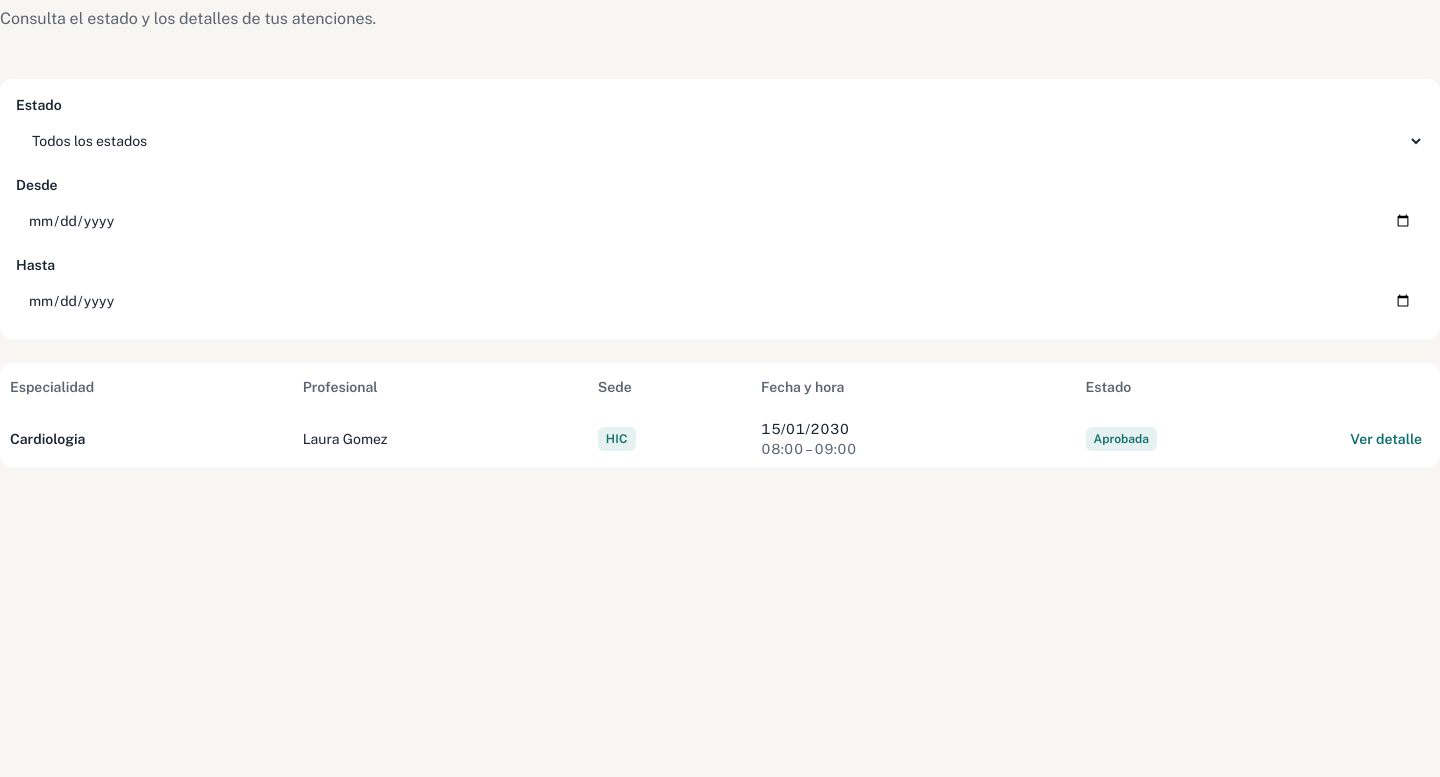
Test: MyAppointmentsPage — reprogramación (HU-018) › CA-04 una solicitud pendiente en el servidor se informa con su mensaje
Click the button with aria-label "Ver detalle de Cardiologia" at (1386,439), box [1342,419,1430,459]
(page scrolled)
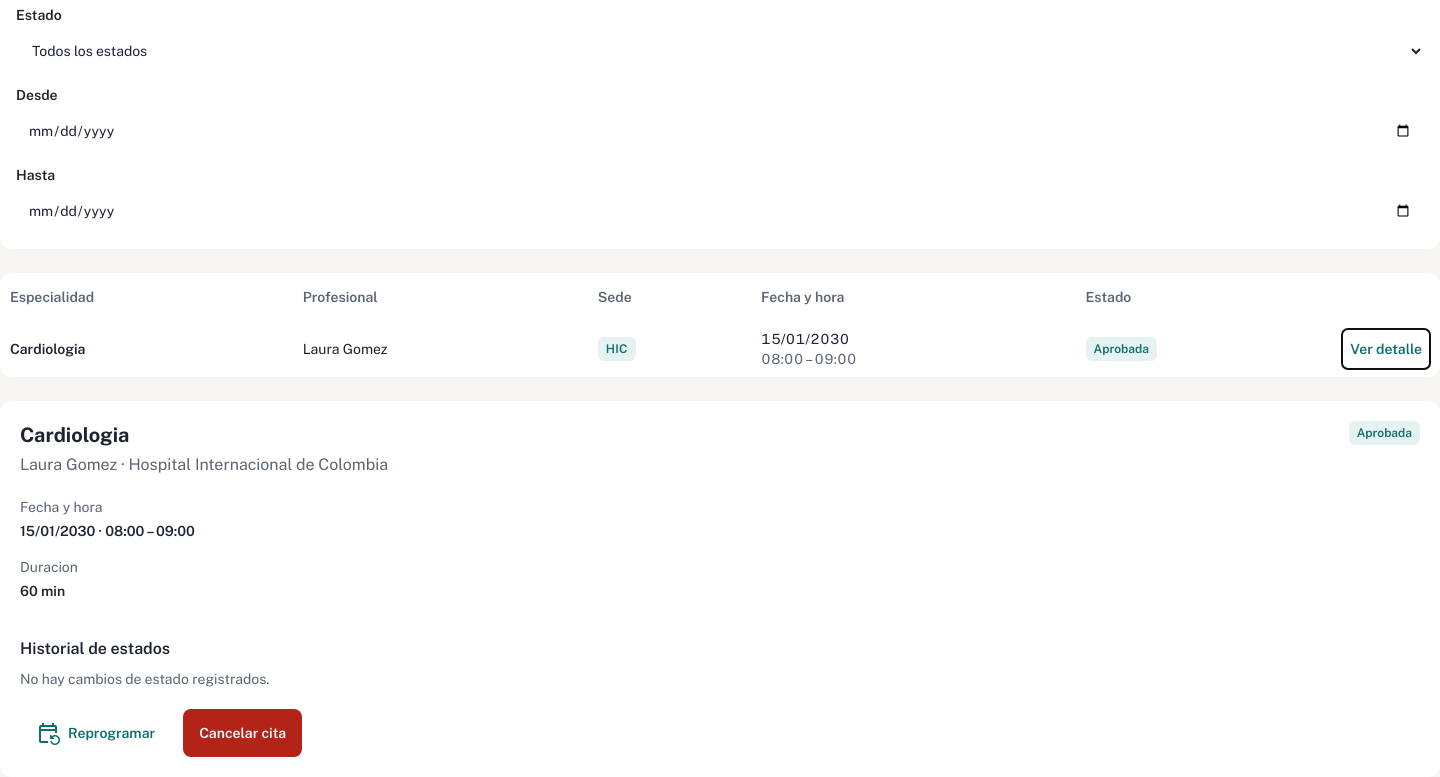
Click the button "Reprogramar" at (96,733), box [20,709,171,757]
(page scrolled)
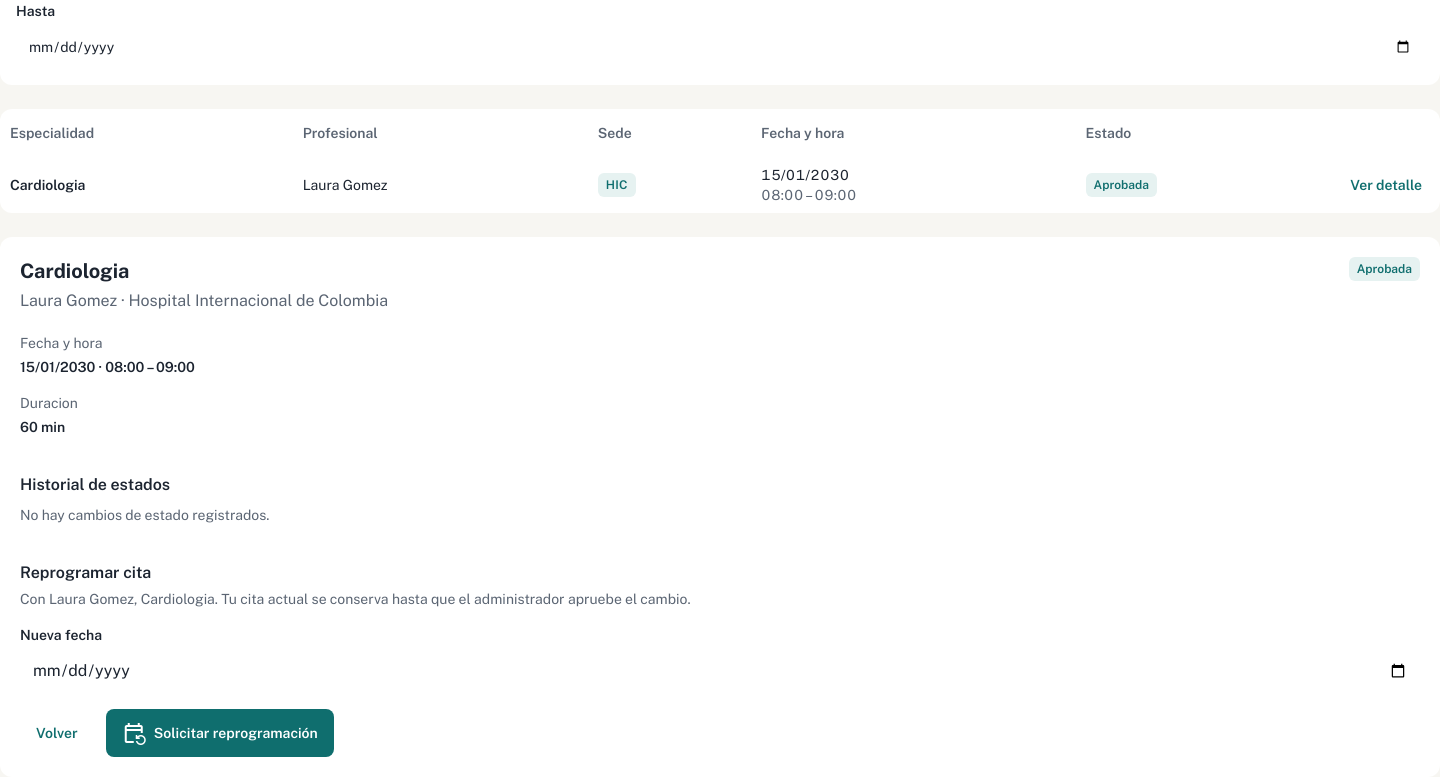
Type "2030-01-16" into the date field labelled "Nueva fecha" at (720,671), box [20,649,1420,693]
(page scrolled)
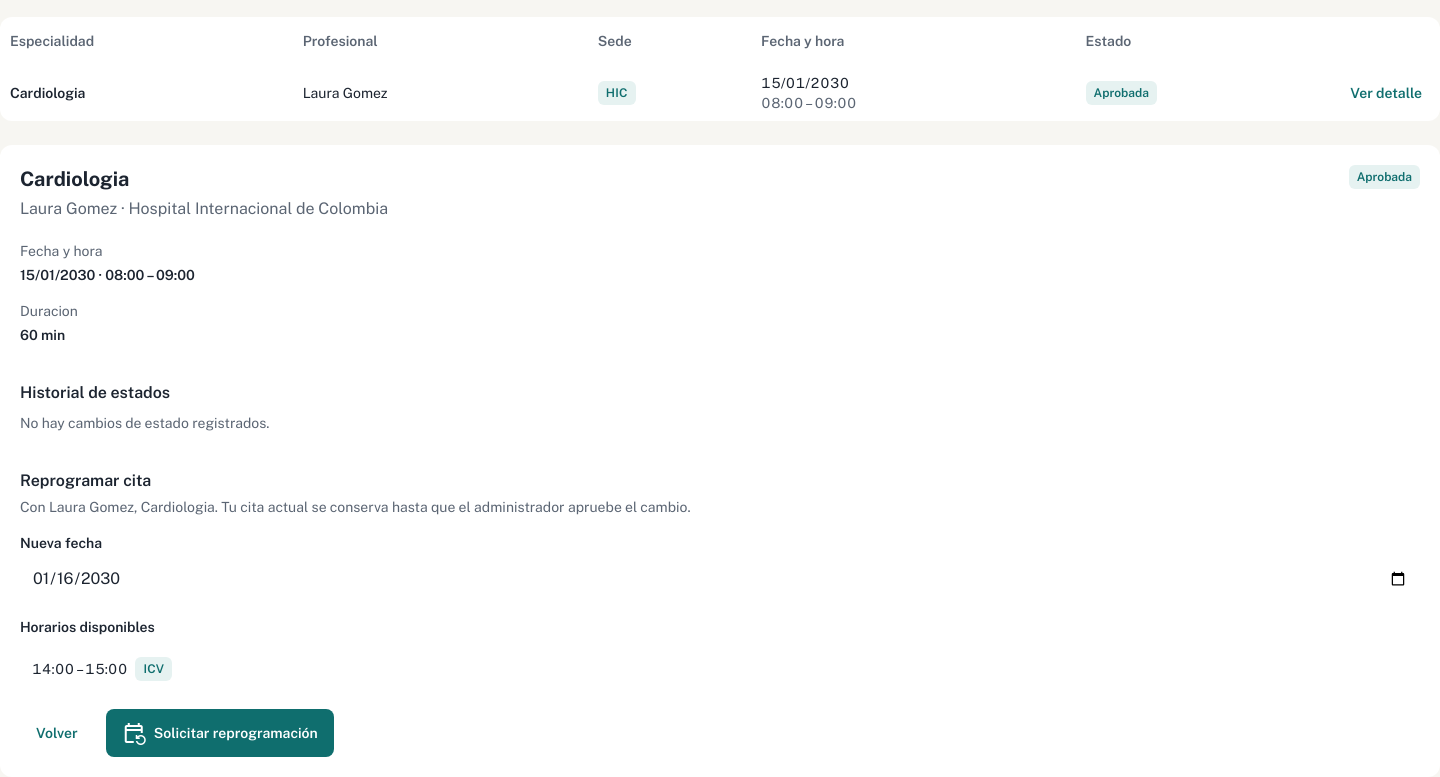
Click the radio button labelled "14:00 – 15:00 ICV" at (102,669), box [20,645,184,693]
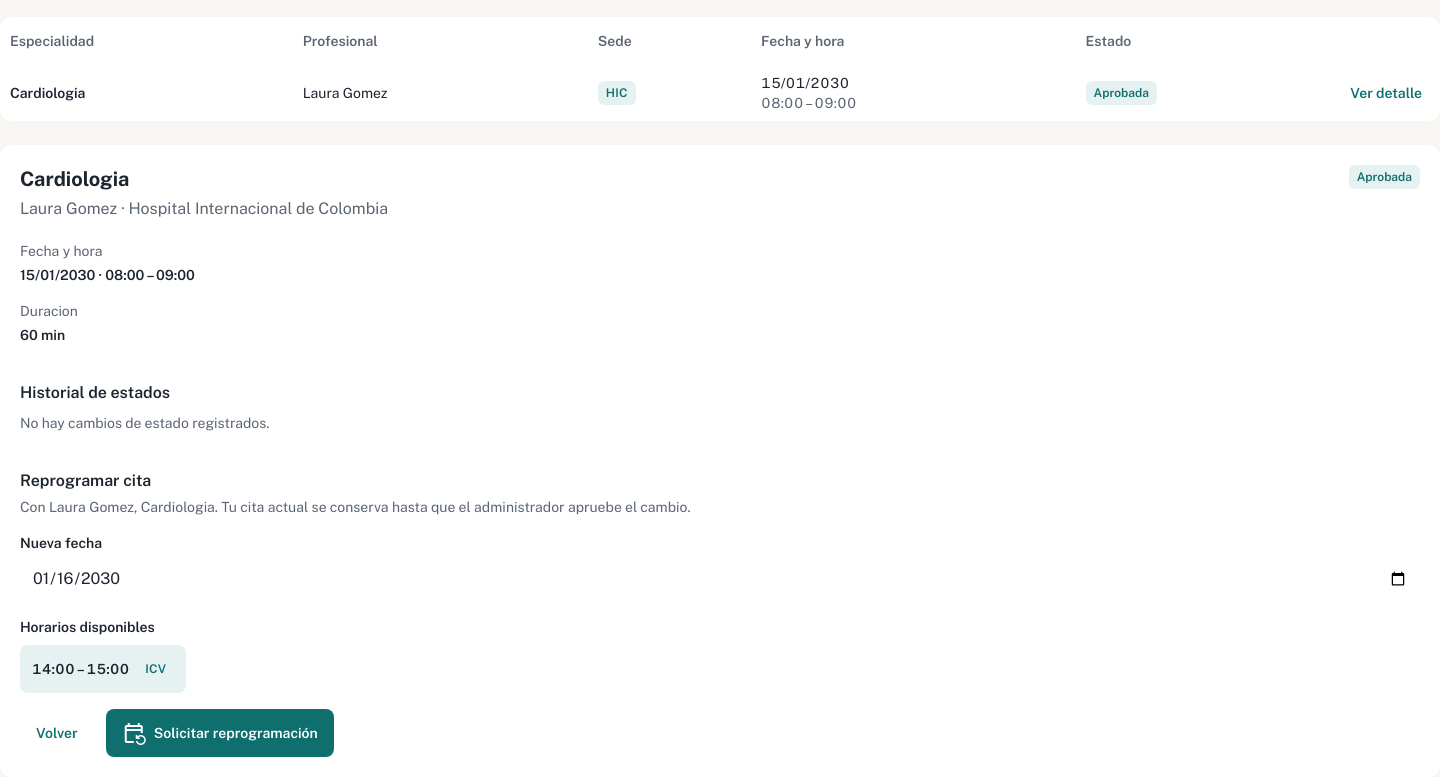
Click the button "Solicitar reprogramación" at (220,733), box [106,709,334,757]
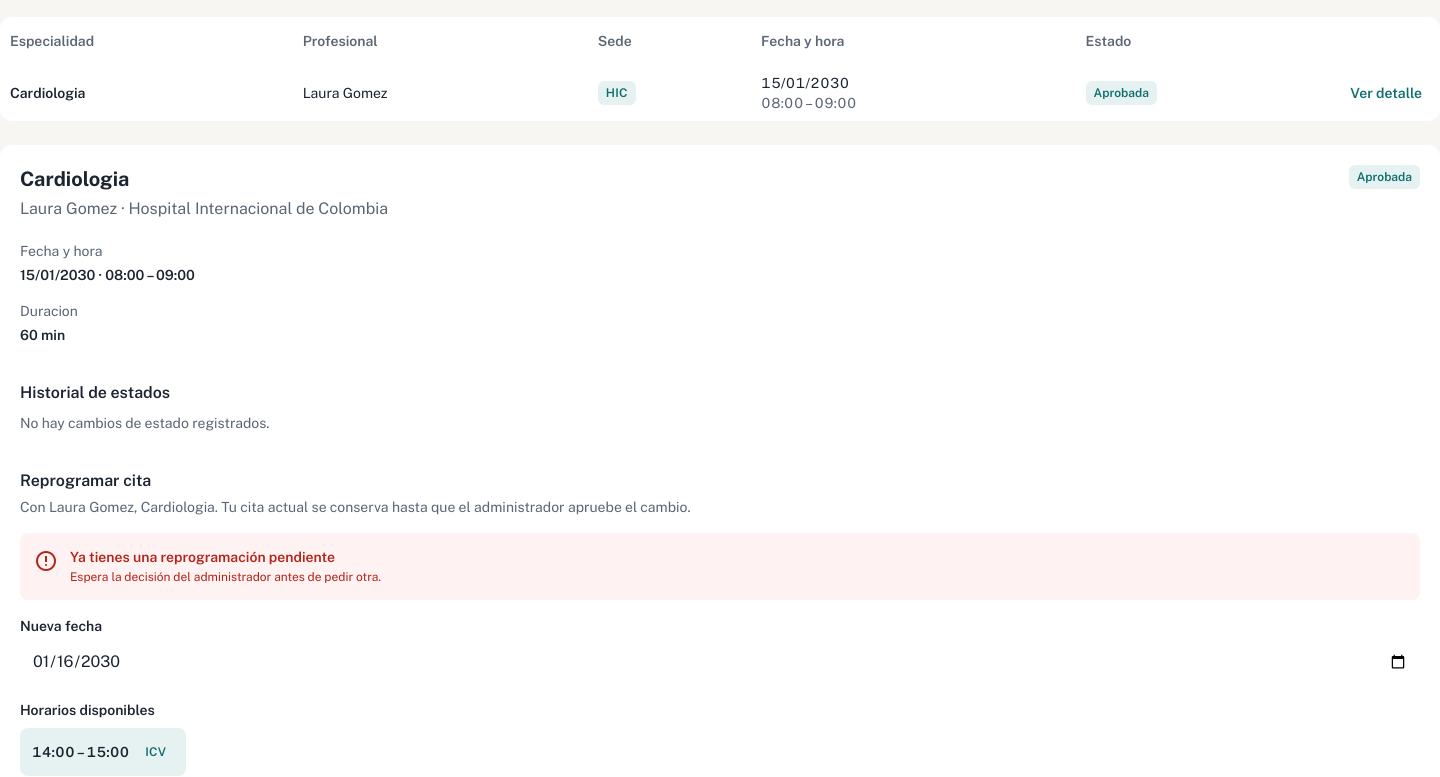
Now the text "Ya tienes una reprogramación pendiente" is shown, box [70,547,381,567]
